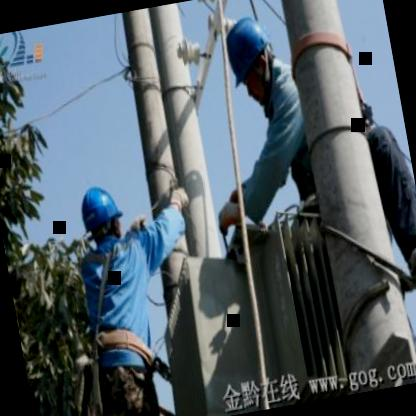helmet: (218, 2, 282, 104), (74, 176, 129, 250)
